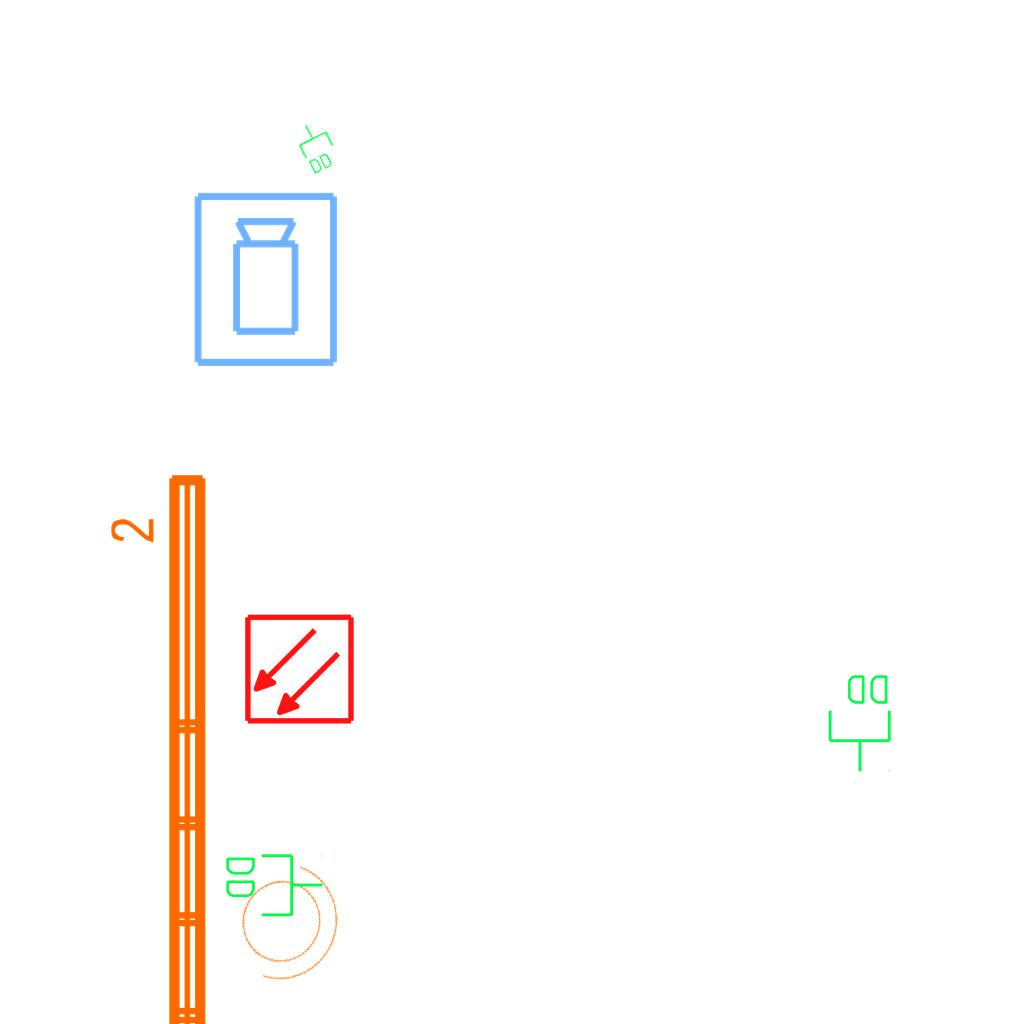Ambulanz_Pendelleuchte_LED: (106, 466, 218, 1024)
Datenanschluss_zweifach: (826, 671, 895, 774), (222, 850, 325, 919), (289, 116, 344, 178)
KFO_Kamera_mit_Festobjektiv: (190, 189, 344, 371)
RMO_Rauchmelder_optischer: (243, 613, 356, 726)
Scheinwerfer_fuer_Alarmbeleuchtung: (212, 839, 362, 1001)
